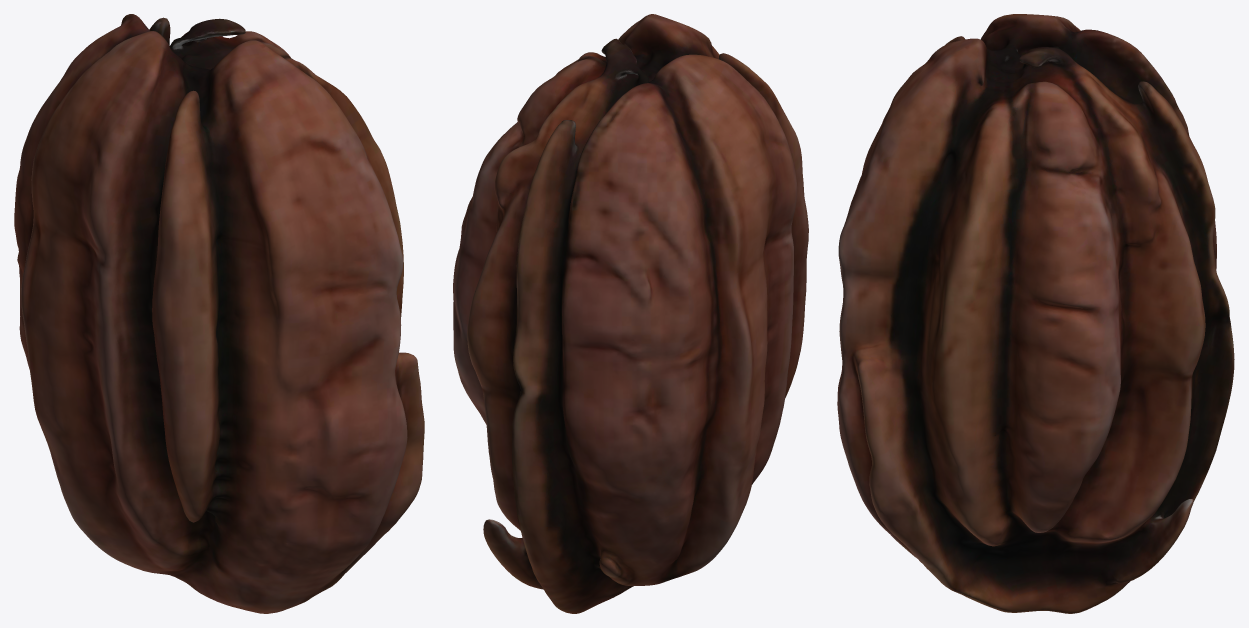
File: Pecan.fbx
3 renders of one model, left to right at view 1: azimuth 30°, elevation 25°; view 2: azimuth 150°, elevation 25°; view 3: azimuth 270°, elevation 25°, orthographic. The views are drawn at different scales.
Parts seen in each view (by area): view 1: high_poly; view 2: high_poly; view 3: high_poly.
Boxes of the visible parts, x1,y1,x2,y2 form: high_poly: (14,14,424,613); high_poly: (453,14,808,613); high_poly: (837,14,1234,613).
Size of the model in its own units: 55.43 by 100 by 64.25.
